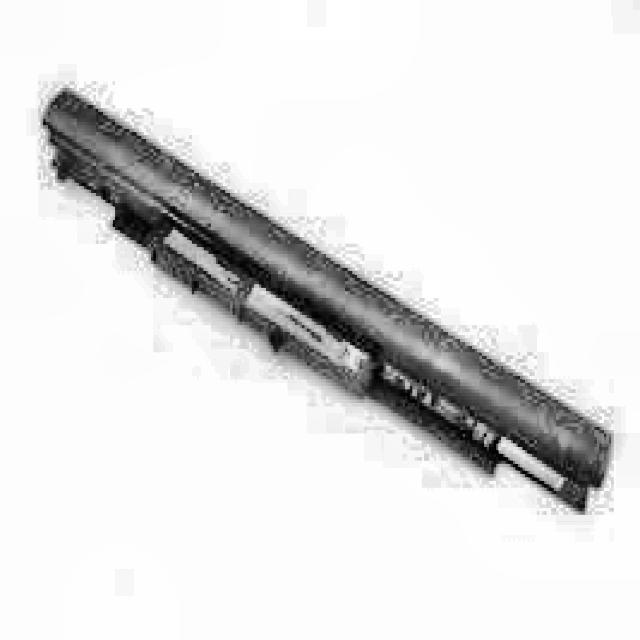Battery: (43, 91, 609, 515)
